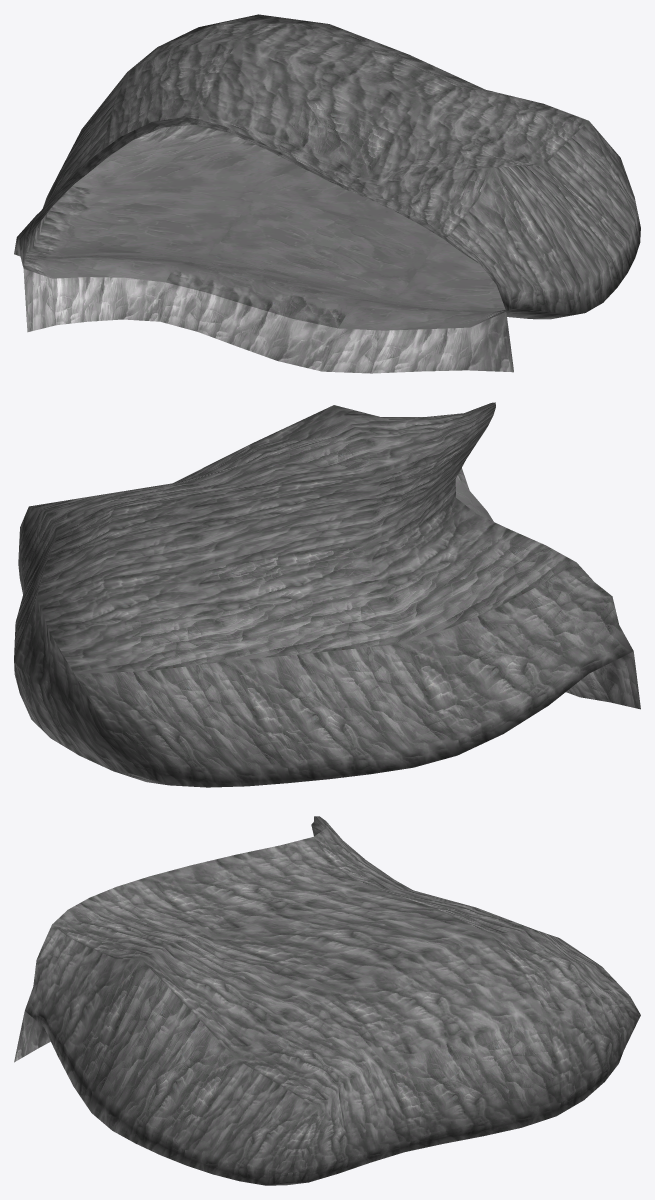
The model's file is SWORDLIGHT20_PS-AREA03_10.fbx.
3 renders of one model, top to bottom at view 1: azimuth 30°, elevation 25°; view 2: azimuth 150°, elevation 25°; view 3: azimuth 270°, elevation 25°, orthographic. The views are drawn at different scales.
Visible parts, largest first — view 1: SWORDLIGHT20_PS-AREA03_10; view 2: SWORDLIGHT20_PS-AREA03_10; view 3: SWORDLIGHT20_PS-AREA03_10.
Part boxes in pixels (bbox=[...]): SWORDLIGHT20_PS-AREA03_10: bbox=[14, 14, 640, 373]; SWORDLIGHT20_PS-AREA03_10: bbox=[14, 402, 640, 787]; SWORDLIGHT20_PS-AREA03_10: bbox=[14, 816, 640, 1185].
Bounding box in the file's own units: 242653 × 73458 × 247158.
6 materials, 6 textured.
